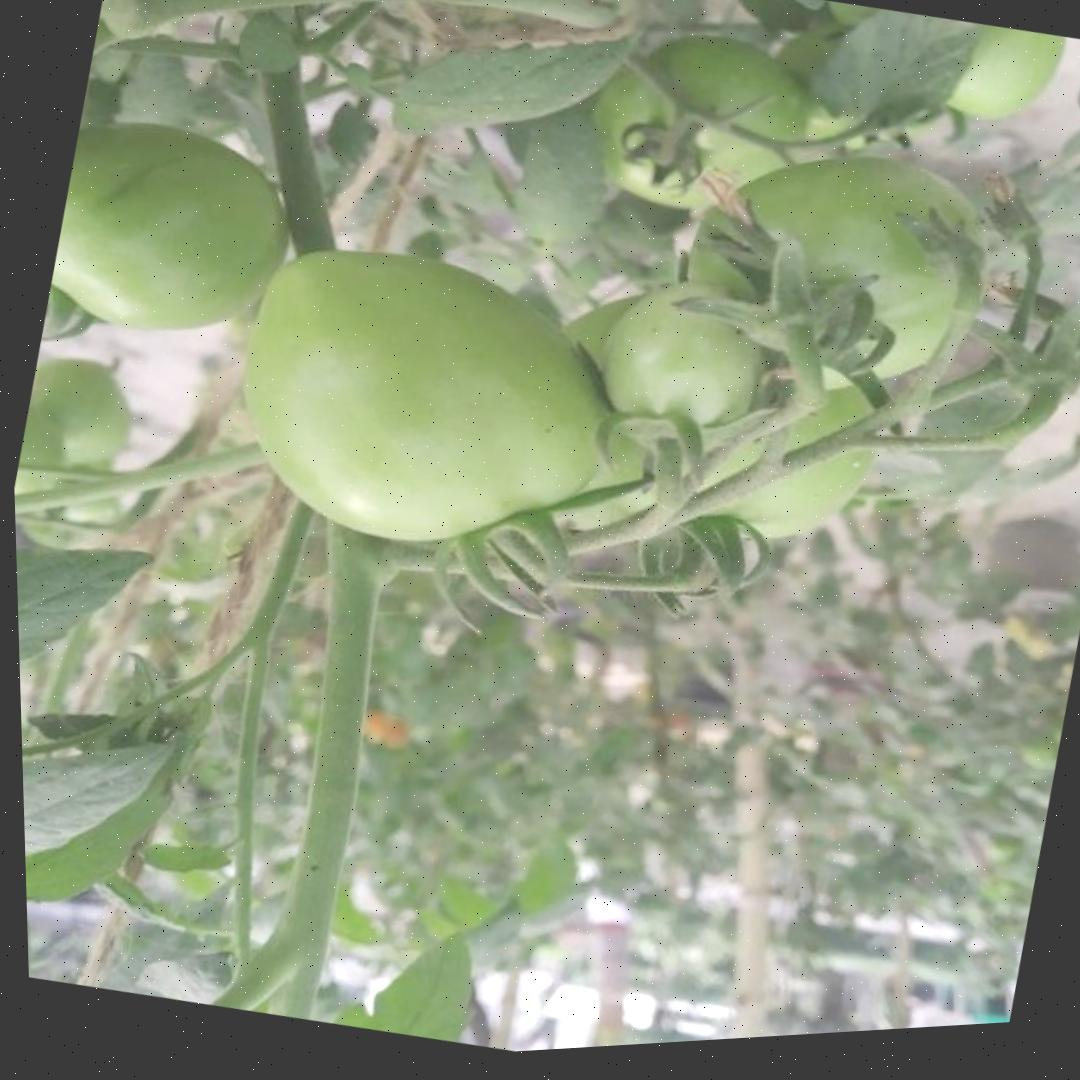mentah: (200, 206, 643, 597), (651, 110, 1016, 436), (37, 95, 318, 371), (571, 5, 826, 240), (577, 258, 788, 454)
